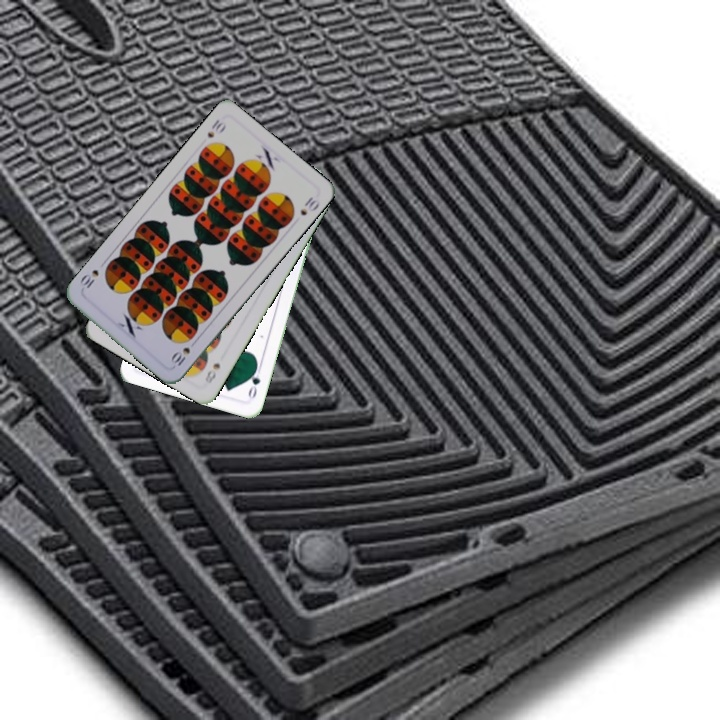GO: (244, 362, 264, 402)
S10: (167, 343, 193, 369), (203, 115, 229, 140)
S8: (201, 359, 223, 386)
